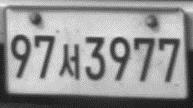3: (84, 35, 106, 80)
7: (157, 36, 180, 83), (132, 36, 155, 82), (33, 34, 55, 80)
9: (9, 33, 31, 80), (108, 36, 131, 80)
서: (57, 42, 81, 80)
